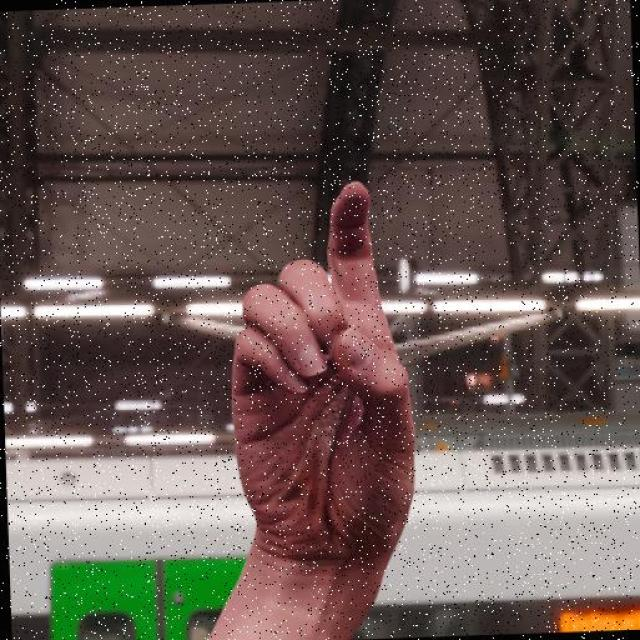X: (218, 178, 429, 582)
